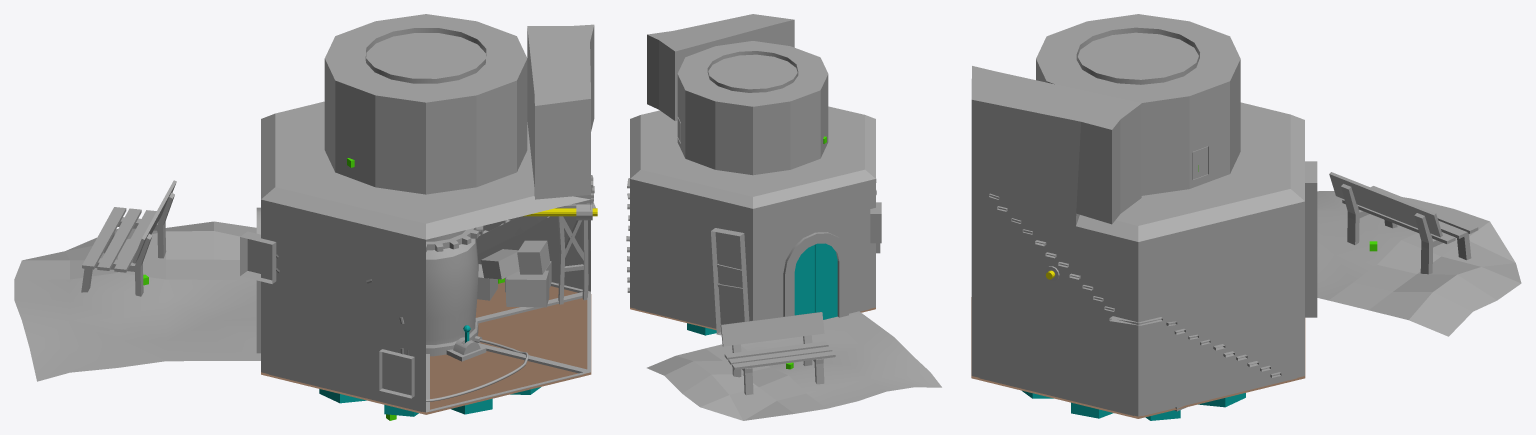
File: LightHouseIndoor.fbx
3 renders of one model, left to right at view 1: azimuth 30°, elevation 25°; view 2: azimuth 150°, elevation 25°; view 3: azimuth 270°, elevation 25°, orthographic. The views are drawn at different scales.
Visible parts, largest first — view 1: shel, pPlane3, polySurface79, pCylinder84, pCube211, pCube174, pCube173, pCube171, pCylinder26, pCylinder81, pCube308, nurbsToPoly5 (+1 smaller); view 2: shel, pPlane3, pCube211, pCube196, pPipe3, pPipe5, pPipe6, pCylinder84, pCube171; view 3: shel, pPlane3, pCube211, pCube196, pCylinder84, pCube173, pCylinder26, polySurface79.
Boxes of the visible parts, x1,y1,x2,y2 form: shel: (261,14,594,412); pPlane3: (14,221,260,381); polySurface79: (261,282,591,414); pCylinder84: (365,28,486,344); pCube211: (81,180,176,296); pCube174: (477,240,551,307); pCube173: (476,175,595,304); pCube171: (240,231,276,283); pCylinder26: (319,387,540,416); pCylinder81: (426,227,481,251); pCube308: (446,337,486,361); nurbsToPoly5: (426,339,528,401); shel: (630,14,875,328); pPlane3: (647,311,941,420); pCube211: (720,312,835,395); pCube196: (711,228,749,335); pPipe3: (783,232,848,317); pPipe5: (815,243,837,319); pPipe6: (794,245,814,315); pCylinder84: (707,51,798,92); pCube171: (870,202,881,243); shel: (971,14,1304,416); pPlane3: (1317,191,1521,336); pCube211: (1329,172,1478,274); pCube196: (1305,161,1317,317); pCylinder84: (1076,27,1199,84); pCube173: (989,193,1281,414); pCylinder26: (1022,390,1245,420); polySurface79: (971,297,1305,418).
Bounding box in the file's own units: 73.9 × 46.89 × 71.35.
